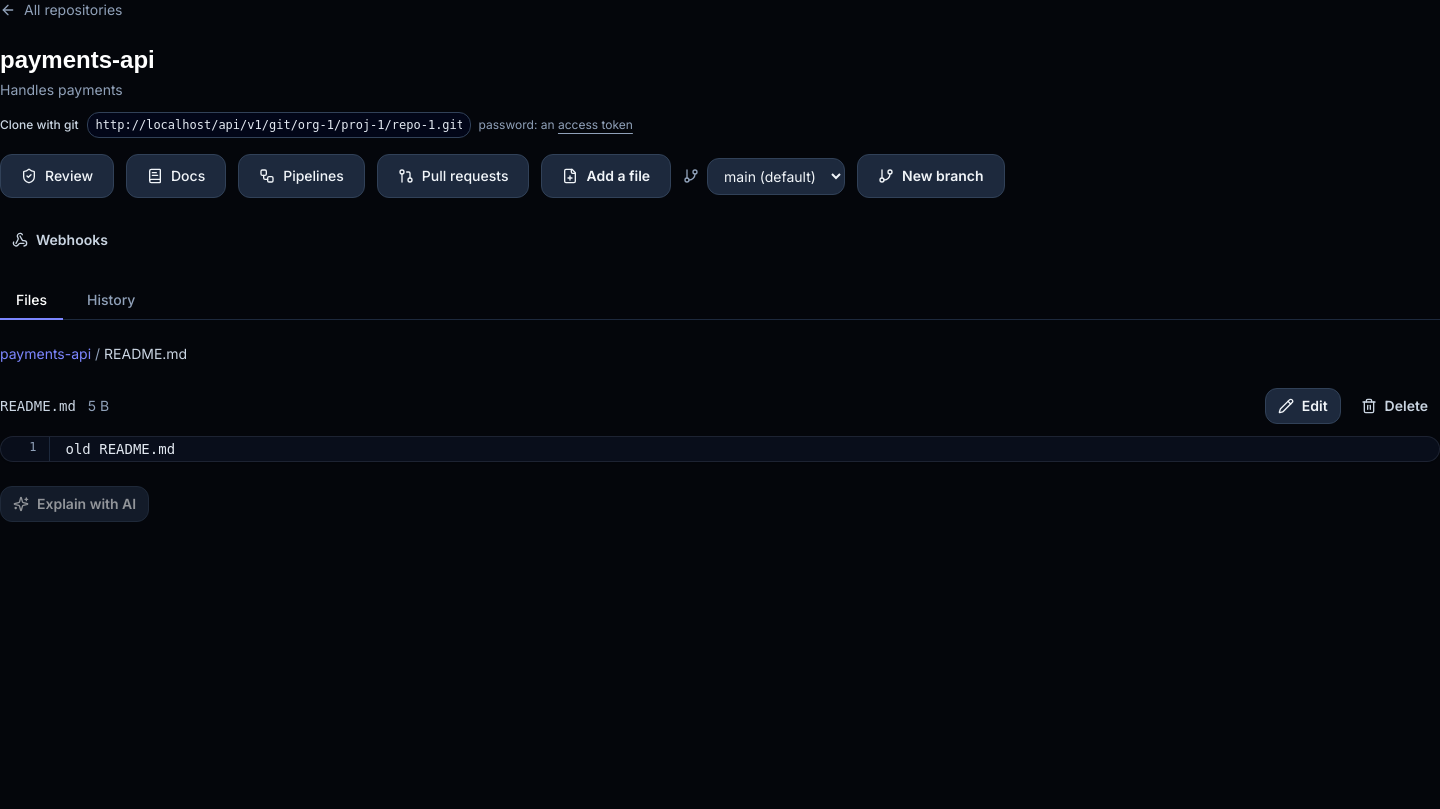
Test: RepositoryBrowserPage › editing › stages a deletion, and an edit undone back to the original is not a change
The width and height of the screenshot is (1440, 809).
What coordinates should you click on to do the following:
click the button "Delete"
I would click on:
 (1394, 406)
Its box is [1349,388,1439,424].
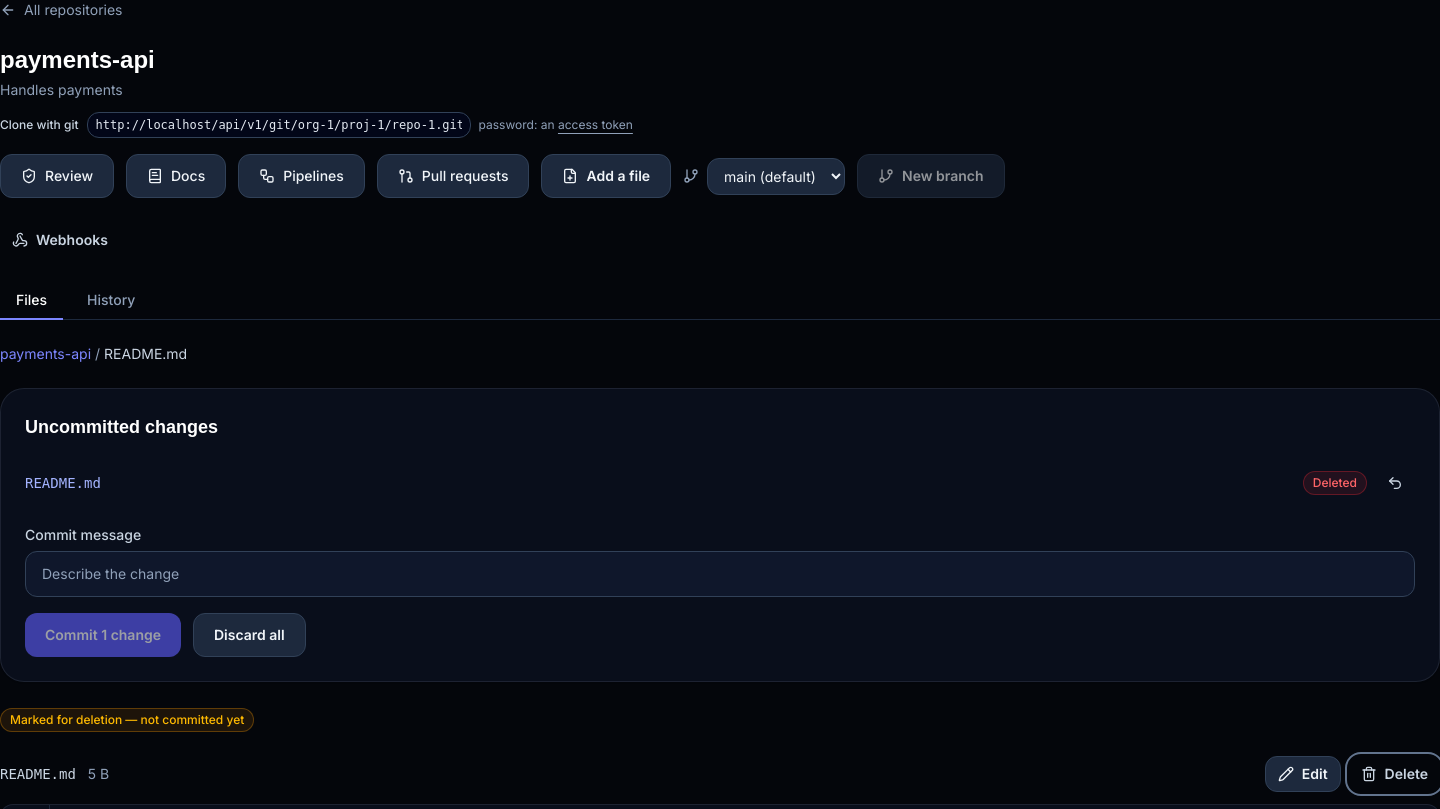
Expected: the text "Deleted" is shown, [1303,471,1367,495]
What coordinates should you click on to do the following:
click the button named "Discard changes to README.md"
I would click on:
 (1395, 483)
Its box is [1375,465,1415,501].
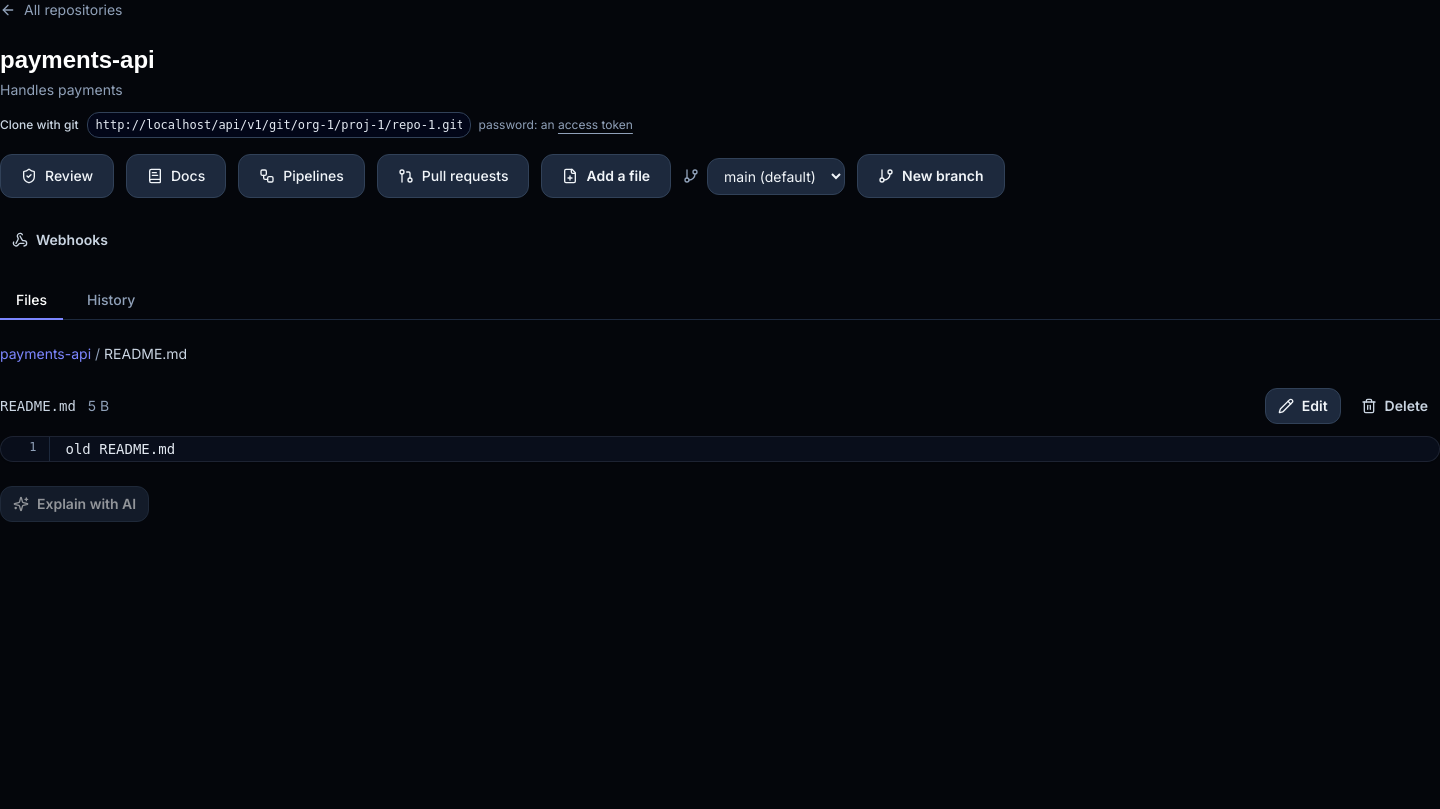
Expected: the heading "Uncommitted changes" is gone
